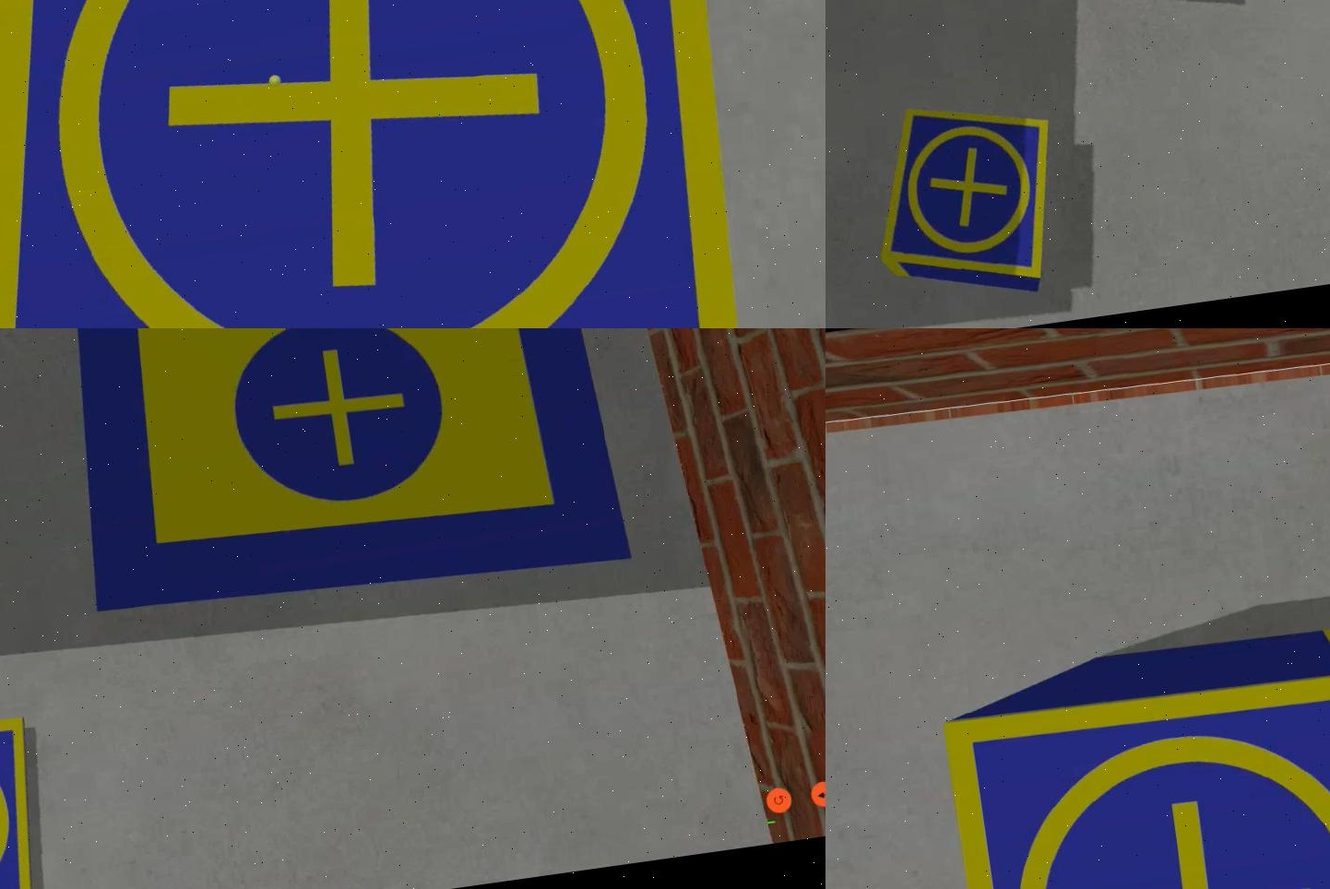large_base: (42, 328, 631, 634)
small_base: (0, 1, 780, 328), (936, 657, 1328, 889), (857, 93, 1067, 302)
